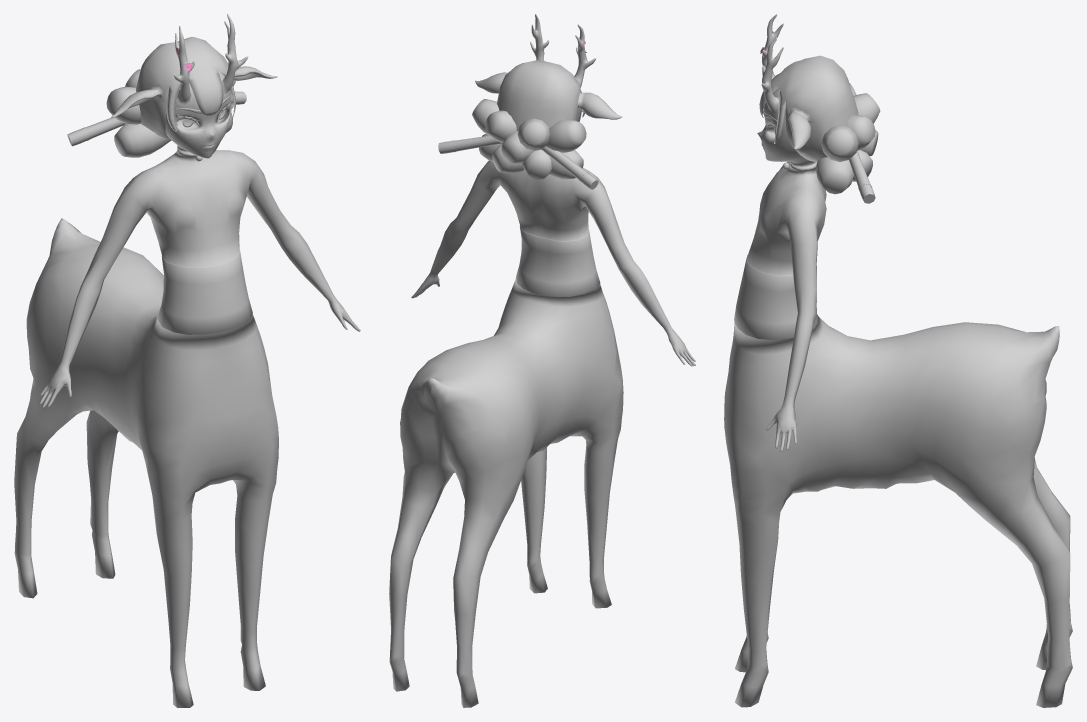
The model's file is DeerBambi.fbx.
3 views of the same model, side by side, from view 1: azimuth 30°, elevation 25°; view 2: azimuth 150°, elevation 25°; view 3: azimuth 270°, elevation 25° (orthographic). The views are drawn at different scales.
Parts seen in each view (by area): view 1: Body, HairBig, Hair8, Hair9, Wood1; view 2: Body, HairBig, Hair9, Hair4, Hair6, Wood1, Wood2, Hair5, Hair1, Hair3, Hair8; view 3: Body, HairBig, Hair2, Hair3, Wood2, Hair6.
Boxes of the visible parts, bbox=[...] form: Body: bbox=[14, 14, 360, 707]; HairBig: bbox=[111, 37, 277, 138]; Hair8: bbox=[114, 123, 170, 157]; Hair9: bbox=[106, 86, 141, 124]; Wood1: bbox=[67, 117, 124, 146]; Body: bbox=[389, 14, 695, 707]; HairBig: bbox=[475, 59, 622, 149]; Hair9: bbox=[546, 119, 586, 152]; Hair4: bbox=[517, 118, 549, 151]; Hair6: bbox=[485, 110, 516, 142]; Wood1: bbox=[542, 146, 598, 189]; Wood2: bbox=[438, 135, 502, 153]; Hair5: bbox=[522, 149, 551, 179]; Hair1: bbox=[501, 131, 533, 163]; Hair3: bbox=[472, 99, 499, 135]; Hair8: bbox=[549, 150, 583, 179]; Body: bbox=[724, 14, 1072, 707]; HairBig: bbox=[759, 55, 858, 162]; Hair2: bbox=[815, 157, 853, 194]; Hair3: bbox=[821, 124, 858, 161]; Wood2: bbox=[849, 150, 875, 203]; Hair6: bbox=[846, 114, 875, 150].
Bounding box in the file's own units: 99.46 × 198 × 94.82.
